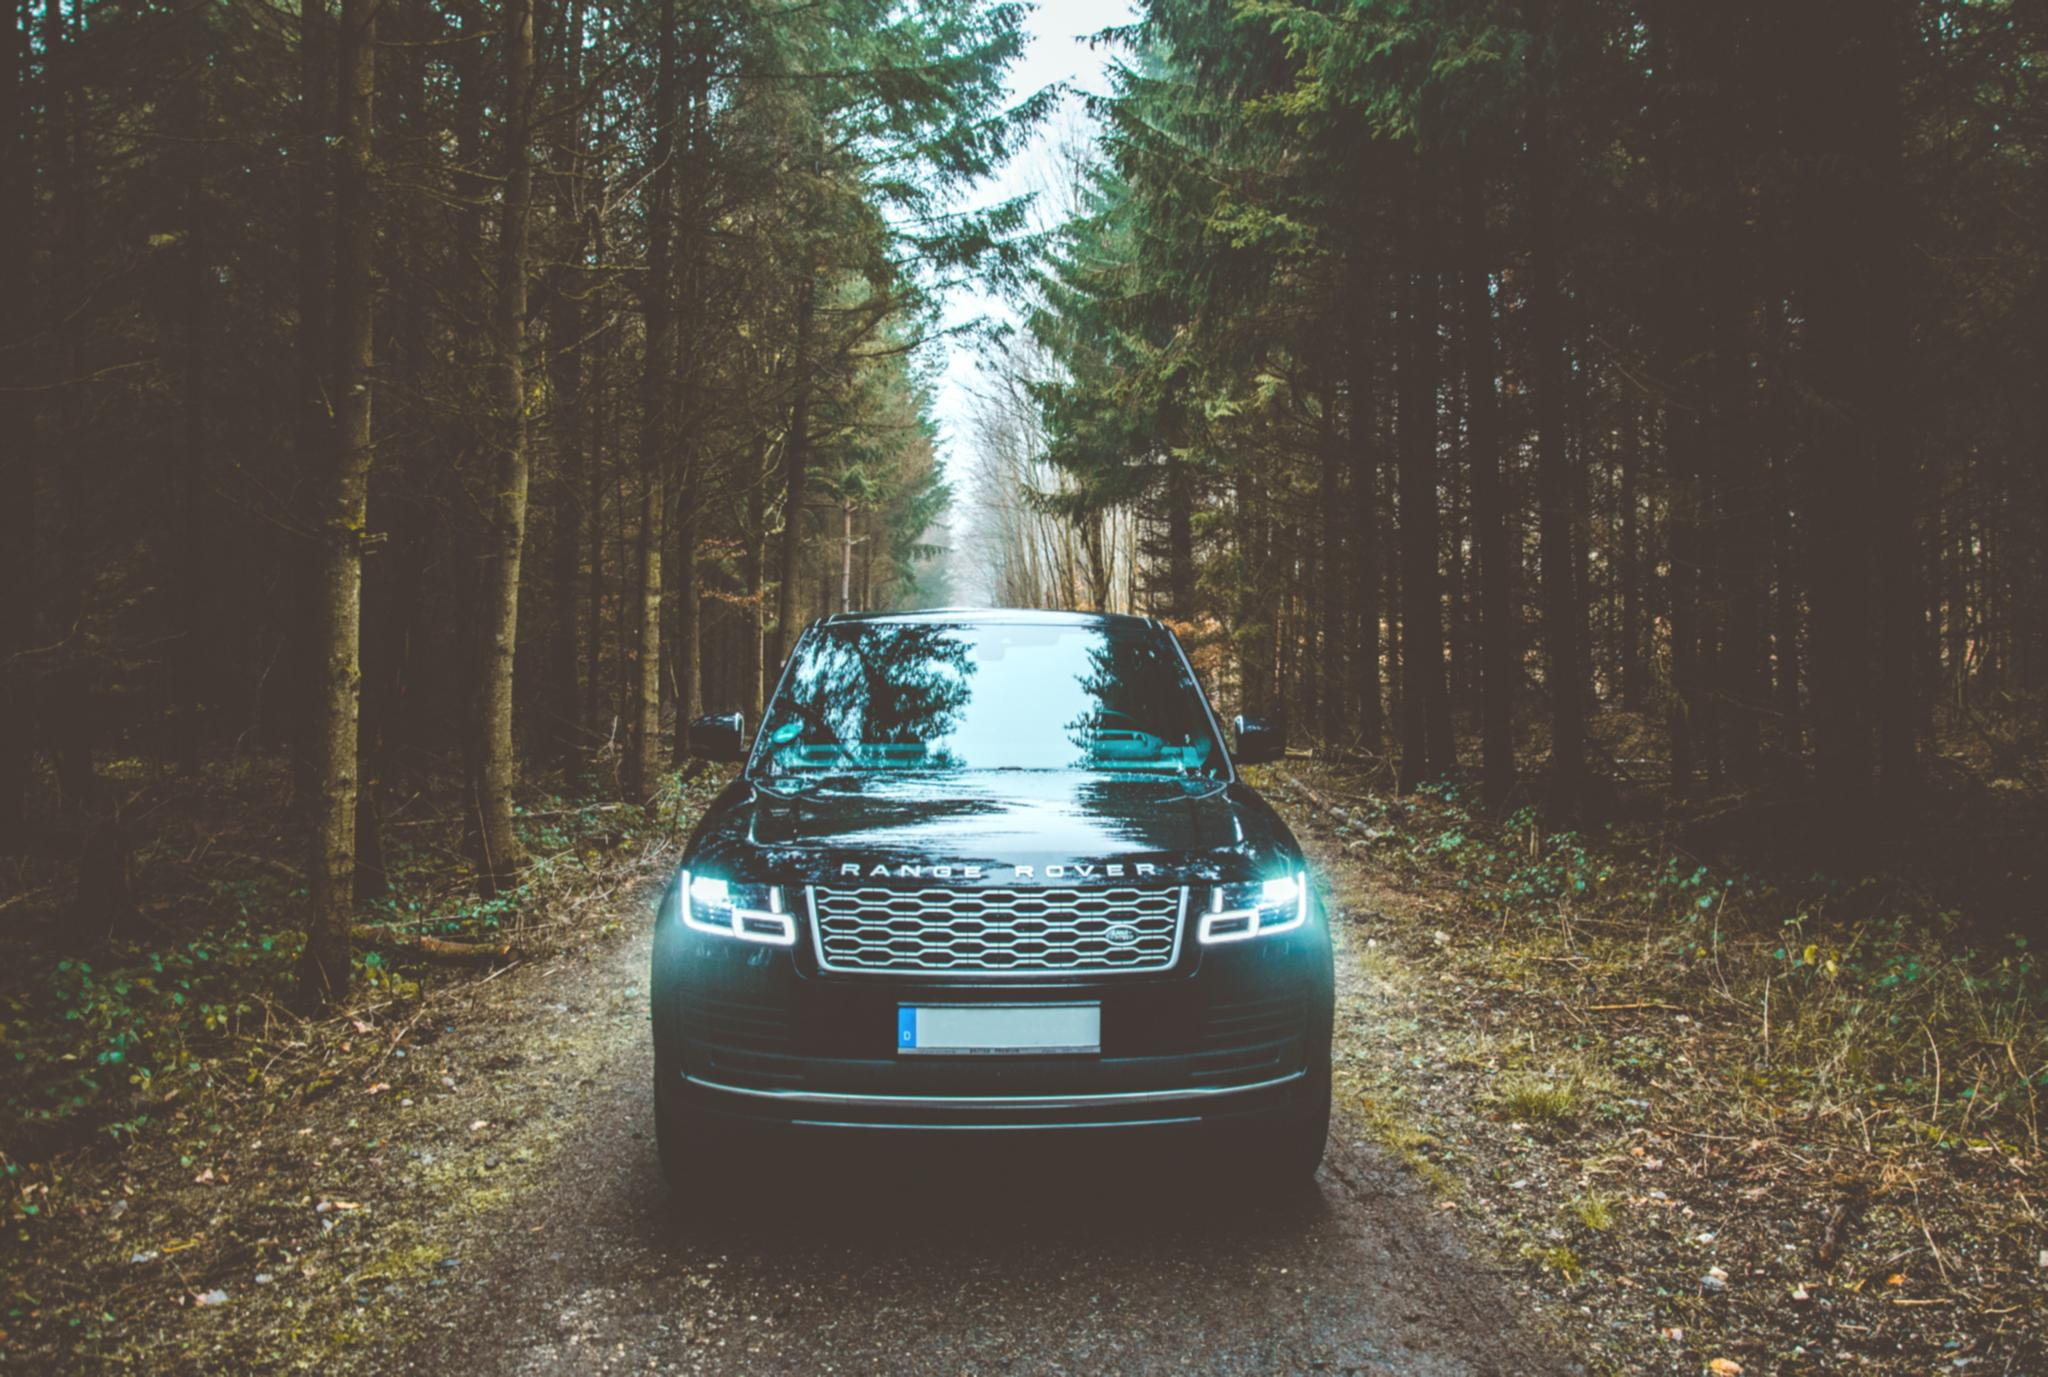range rover: (828, 853, 1172, 893)
